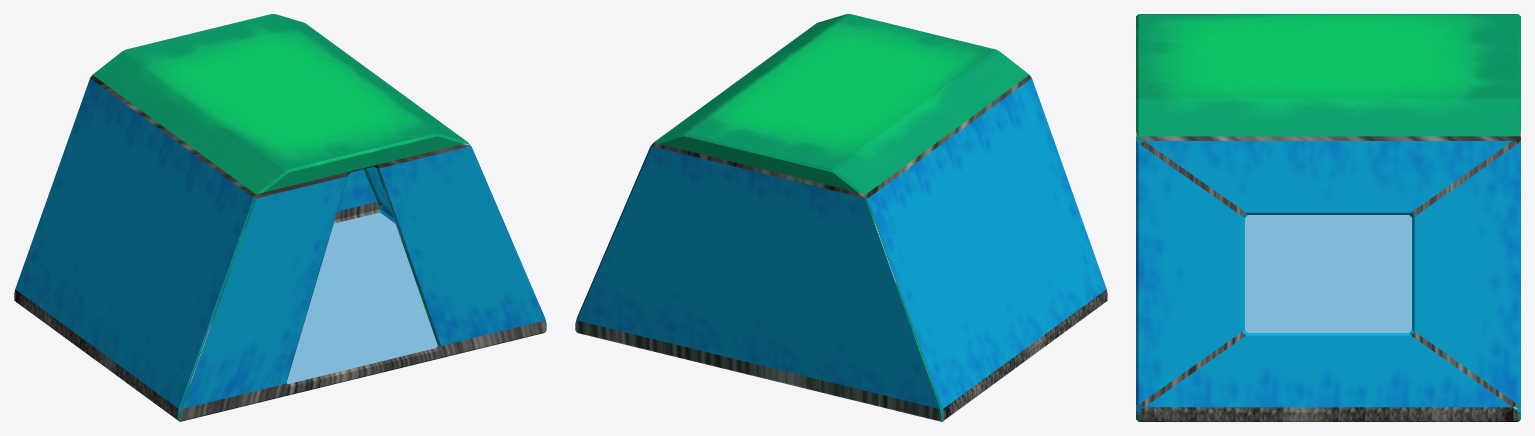
File: camp_tent_family.gltf
The picture shows the model from 3 angles, left to right: view 1: azimuth 30°, elevation 25°; view 2: azimuth 150°, elevation 25°; view 3: azimuth 270°, elevation 25°; orthographic projection. The views are drawn at different scales.
Visible parts, largest first — view 1: Cube; view 2: Cube; view 3: Cube.
Boxes of the visible parts, box(x1,y1,x2,y2) form: Cube: box(14, 14, 546, 421); Cube: box(575, 14, 1107, 421); Cube: box(1136, 14, 1520, 421).
Size of the model in its own units: 3.41 by 2 by 2.66.
Materials: 1 (1 with a texture image).
